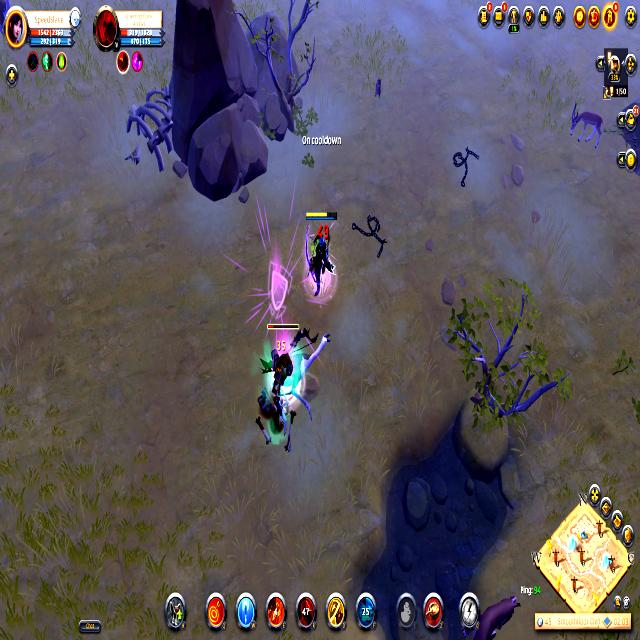ore: (263, 314, 327, 416), (566, 100, 606, 155)
red: (301, 204, 338, 296)
